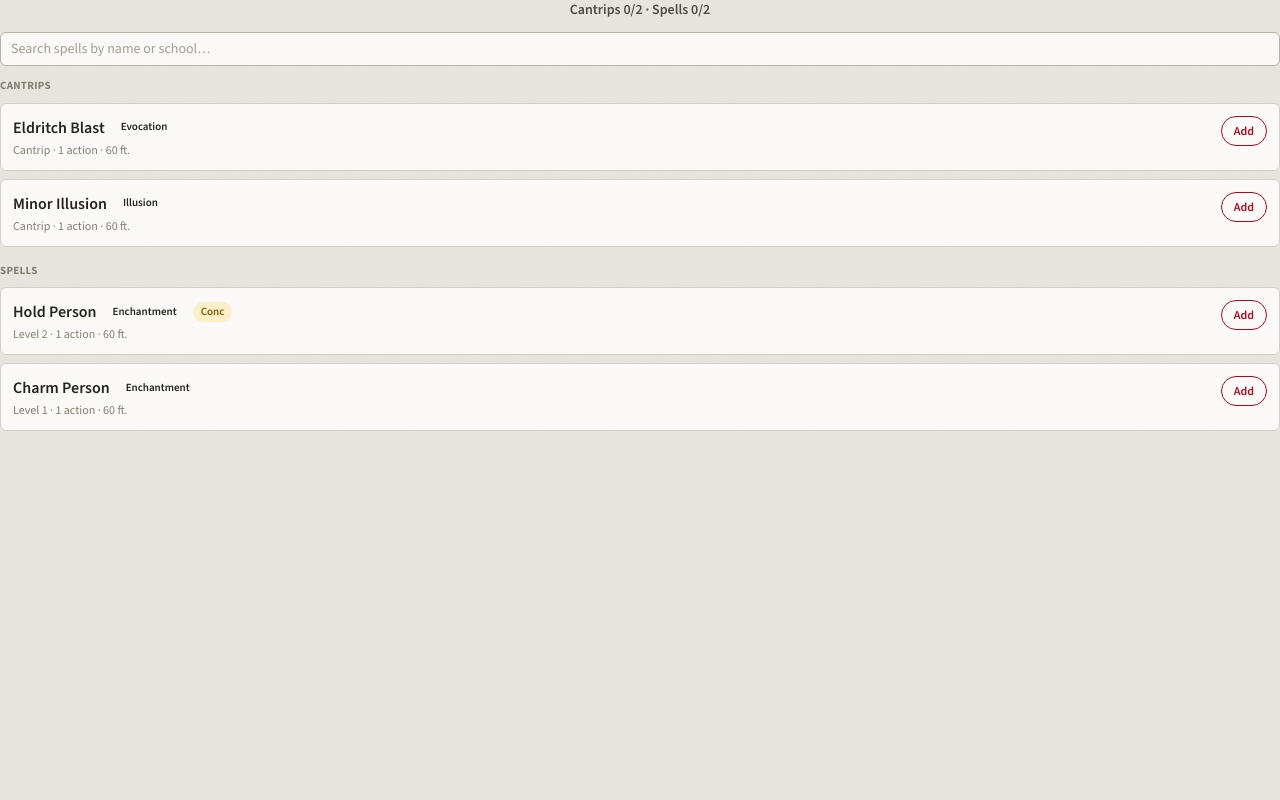
Test: SpellPicker › opens the detail card with the full description from a row body, and the CTA learns then closes
Click the button with aria-label "Open Hold Person". click: (55, 312)
box: [13,300,1209,342]
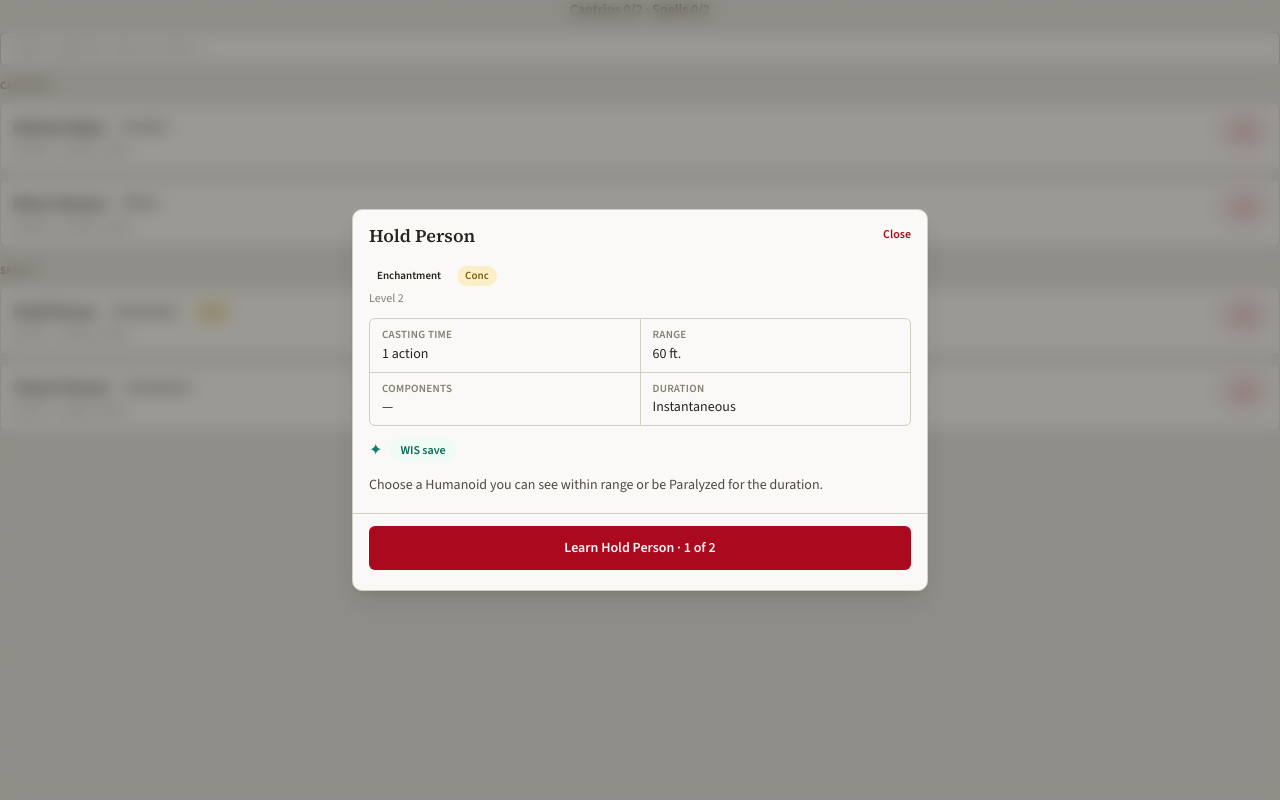
Result: the text "or be Paralyzed for the duration" is shown at [369,475,823,494]
Click the button "Learn Hold Person · 1 of 2". click: (640, 548)
box: [369,526,911,570]
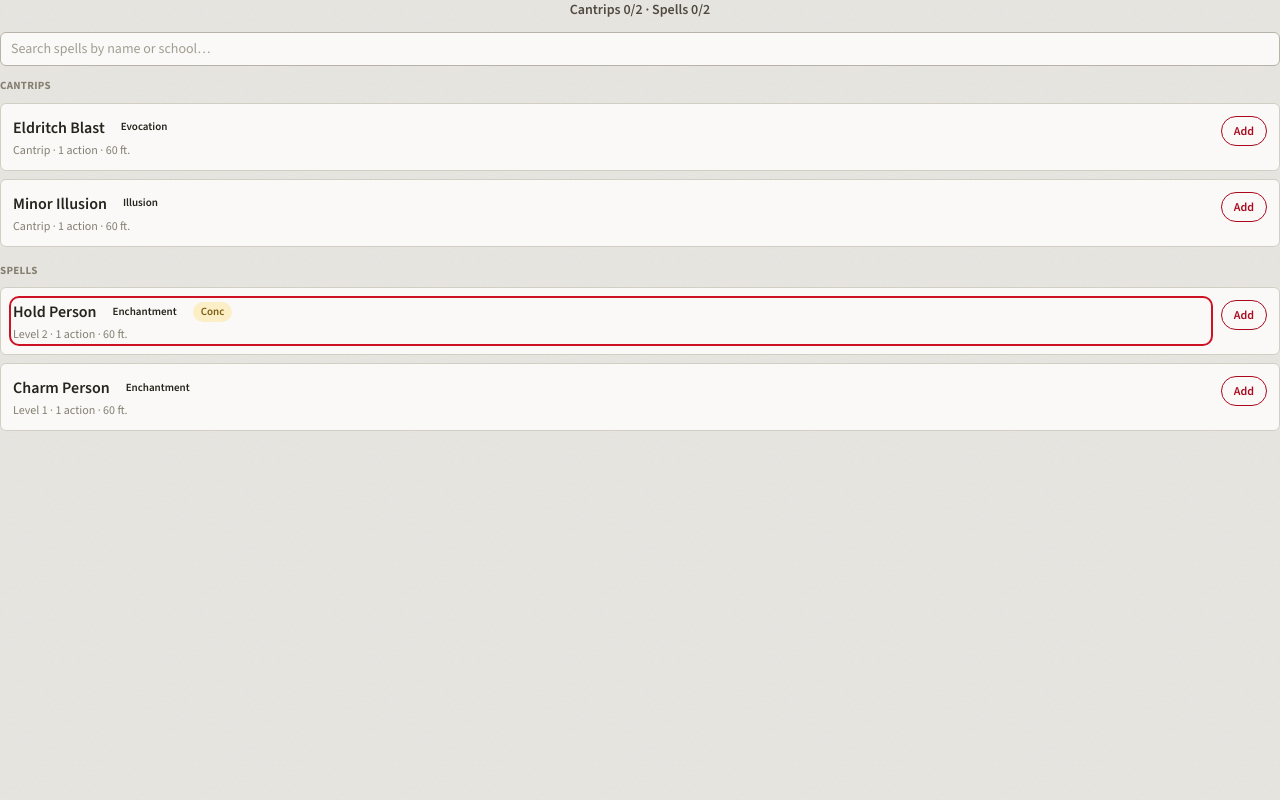
Result: the text "or be Paralyzed for the duration" is gone
